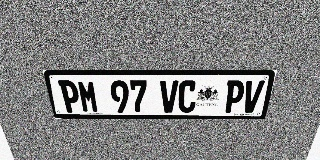7: (129, 80, 148, 113)
9: (110, 80, 130, 113)
C: (178, 80, 197, 113)
M: (77, 80, 99, 113)
P: (58, 80, 82, 113), (223, 80, 246, 113)
V: (241, 80, 265, 113), (160, 80, 178, 113)
